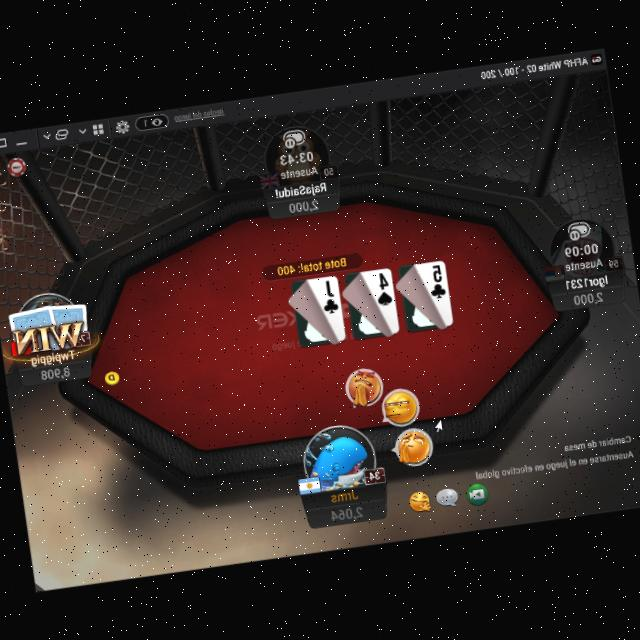4s: (371, 268, 395, 306)
5c: (426, 260, 448, 300)
Jc: (318, 276, 341, 315)
card_back: (7, 300, 60, 342), (44, 296, 90, 336)
dealer: (100, 365, 122, 386)
pot_text: (274, 254, 350, 274)
stack_text: (328, 499, 366, 521), (572, 287, 606, 306), (288, 196, 320, 214), (39, 362, 72, 379)
